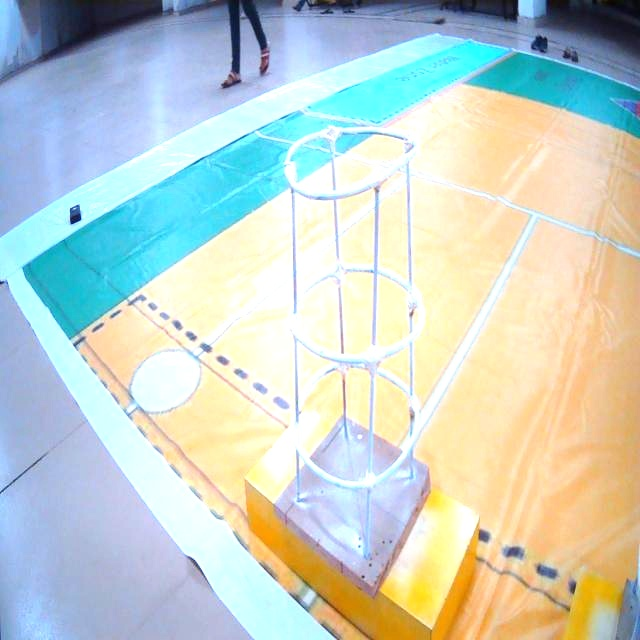silo: (279, 124, 427, 564)
